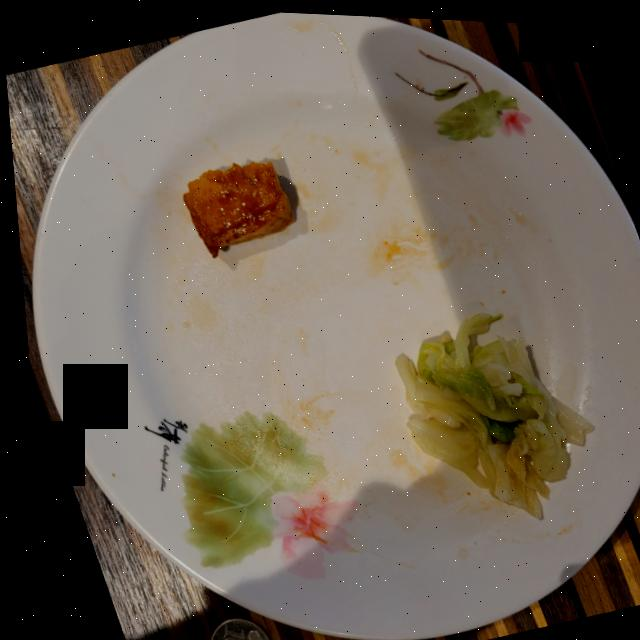cabbage: (389, 308, 586, 513)
coin: (199, 615, 259, 640)
creamy tofu: (179, 159, 290, 255)
